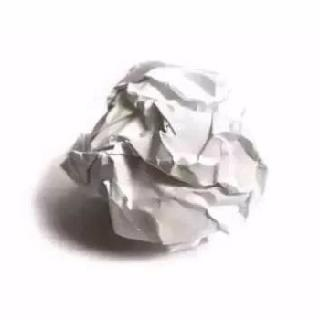8/可回收垃圾/纸: (60, 58, 270, 251)
